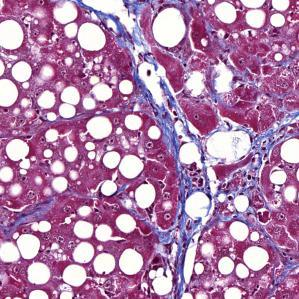fibrosis: (176, 172, 266, 236), (150, 75, 213, 149)
